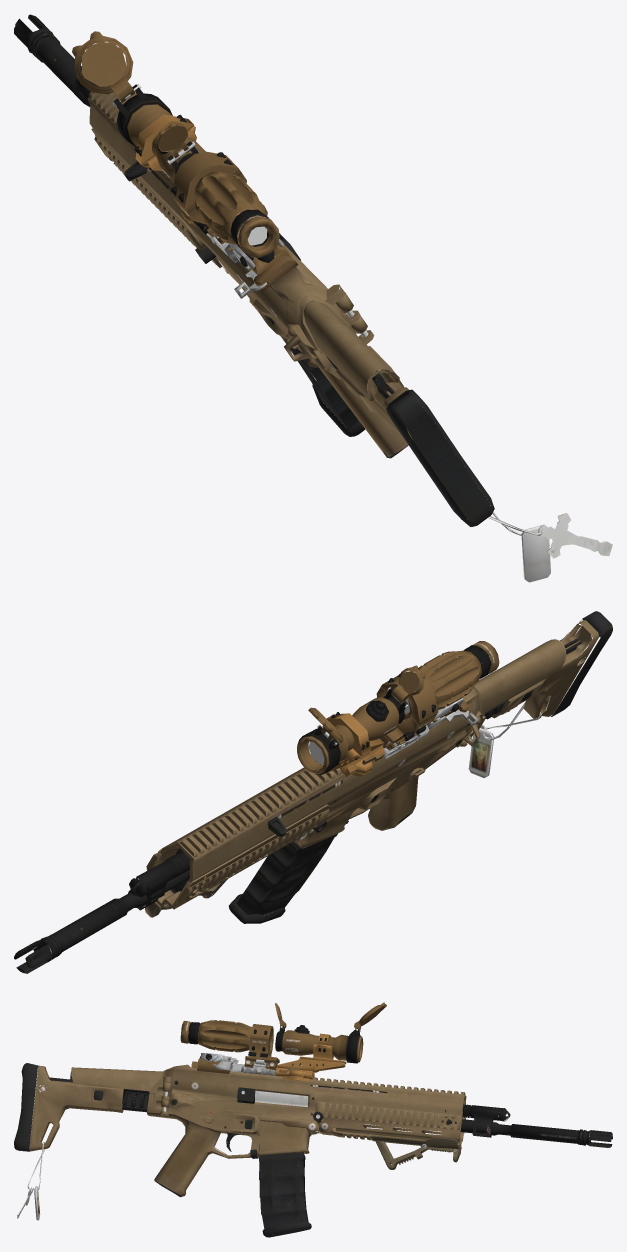
The model's file is ranger.glb.
3 views of the same model, one above another, from view 1: azimuth 30°, elevation 25°; view 2: azimuth 150°, elevation 25°; view 3: azimuth 270°, elevation 25° (orthographic). The views are drawn at different scales.
Visible parts, largest first — view 1: Object_5, Object_4, Object_3, Object_6, Object_2; view 2: Object_4, Object_6, Object_3, Object_5, Object_2; view 3: Object_4, Object_6, Object_5, Object_3, Object_2, Object_7.
Boxes of the visible parts, x1,y1,x2,y2 form: Object_5: (14, 14, 607, 582); Object_4: (28, 15, 605, 542); Object_3: (72, 31, 298, 298); Object_6: (27, 28, 612, 578); Object_2: (75, 36, 294, 290); Object_4: (16, 620, 598, 973); Object_6: (41, 611, 612, 959); Object_3: (297, 641, 499, 776); Object_5: (14, 611, 612, 973); Object_2: (308, 650, 480, 776); Object_4: (18, 1064, 612, 1214); Object_6: (14, 1064, 590, 1236); Object_5: (15, 1063, 612, 1237); Object_3: (180, 1002, 386, 1081); Object_2: (191, 1005, 384, 1081); Object_7: (371, 1135, 461, 1169).
Bounding box in the file's own units: 0.2038 × 0.3244 × 0.9.
Materials: 3 (3 with a texture image).
